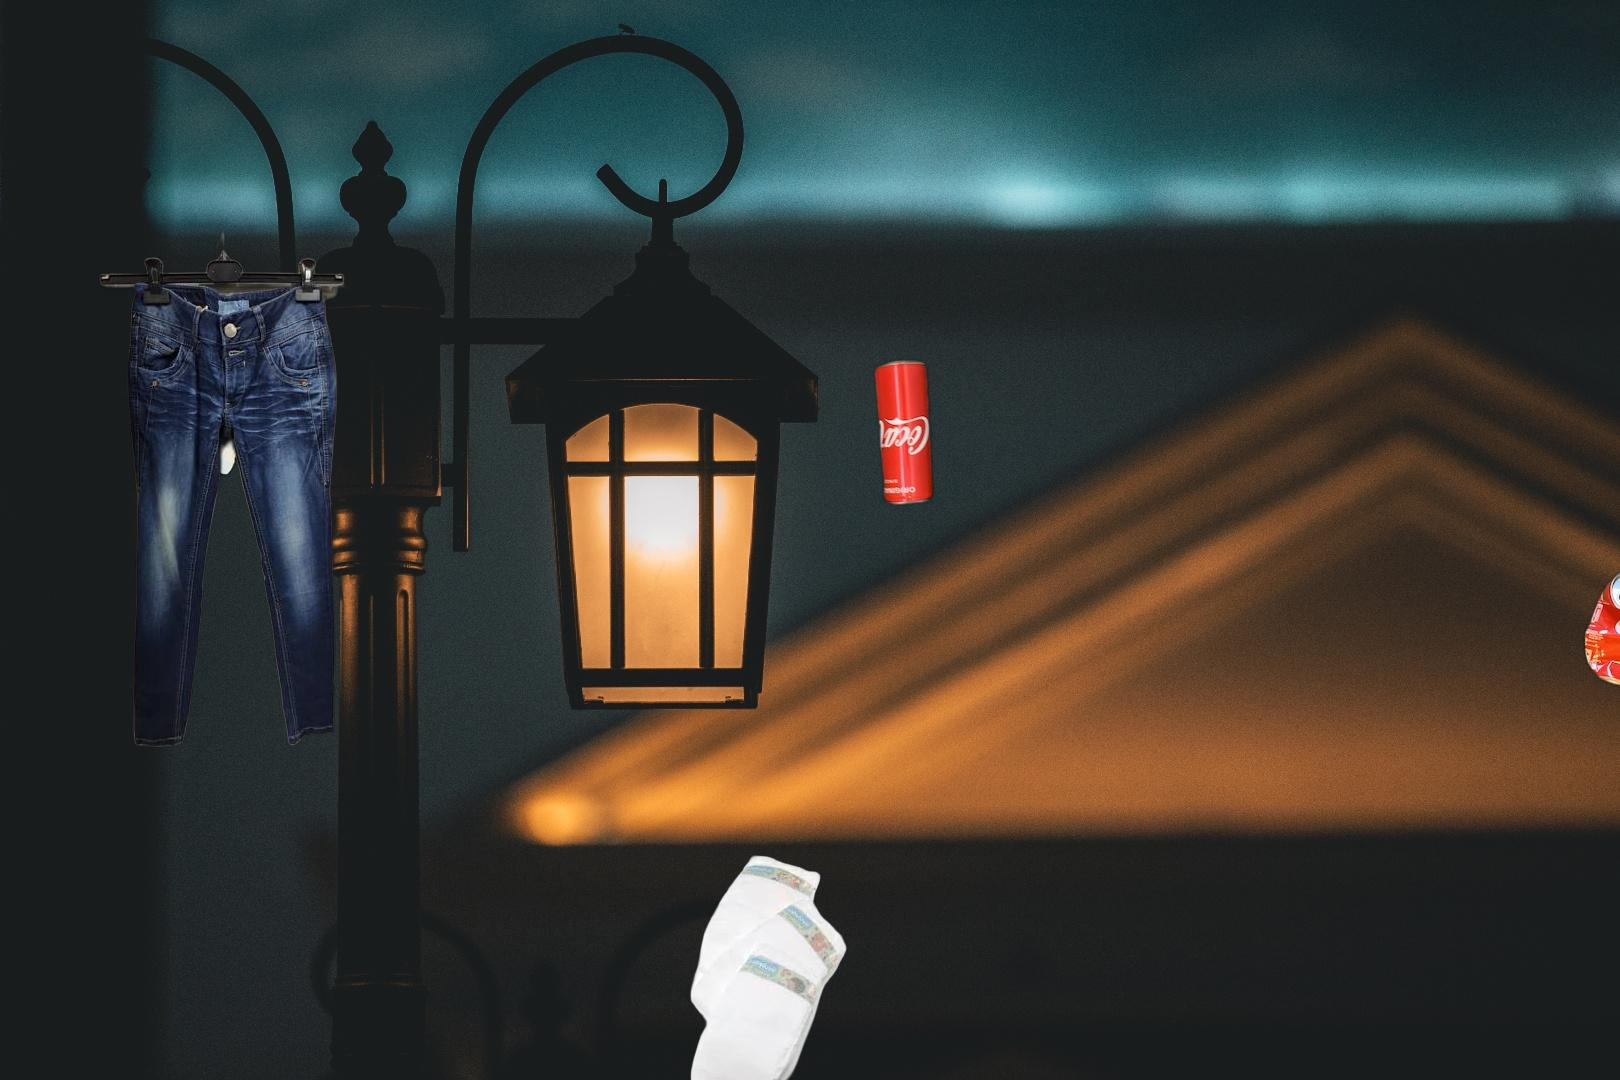clothes: (51, 231, 354, 752)
metal-cans: (1424, 560, 1620, 862), (869, 356, 937, 510)
plastic-bottles: (139, 401, 248, 481)
trash: (687, 852, 850, 1080)
